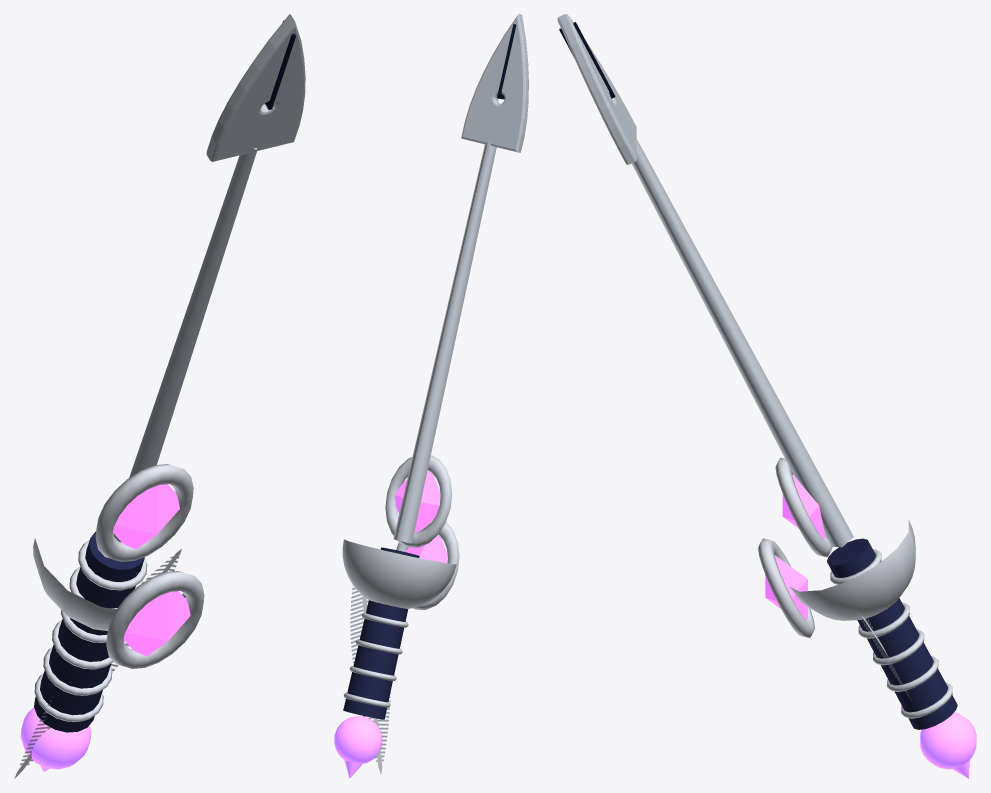
Rendered from hand_eqen2.glb.
3 views of the same model, side by side, from view 1: azimuth 30°, elevation 25°; view 2: azimuth 150°, elevation 25°; view 3: azimuth 270°, elevation 25° (orthographic). The views are drawn at different scales.
Size of the model in its own units: 0.741 by 4.53 by 2.25.
7 materials, 1 textured.
